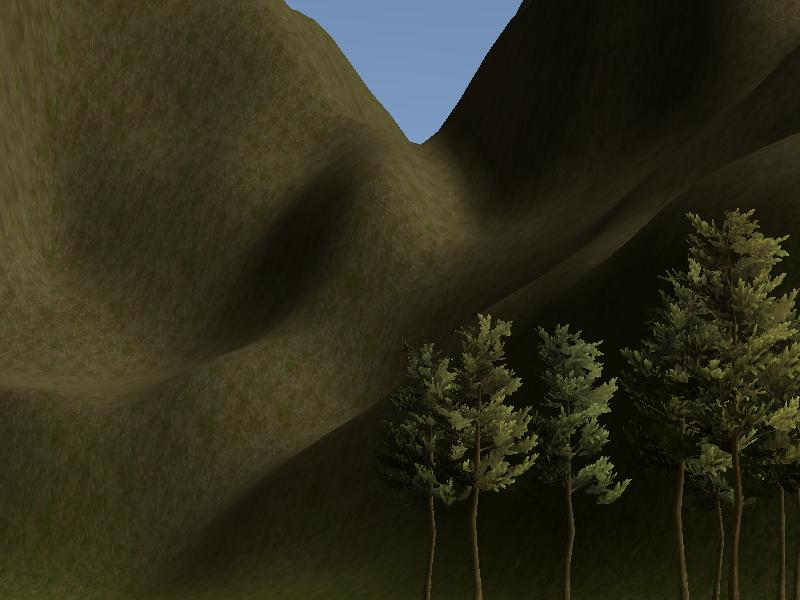background: (1, 1, 798, 598)
